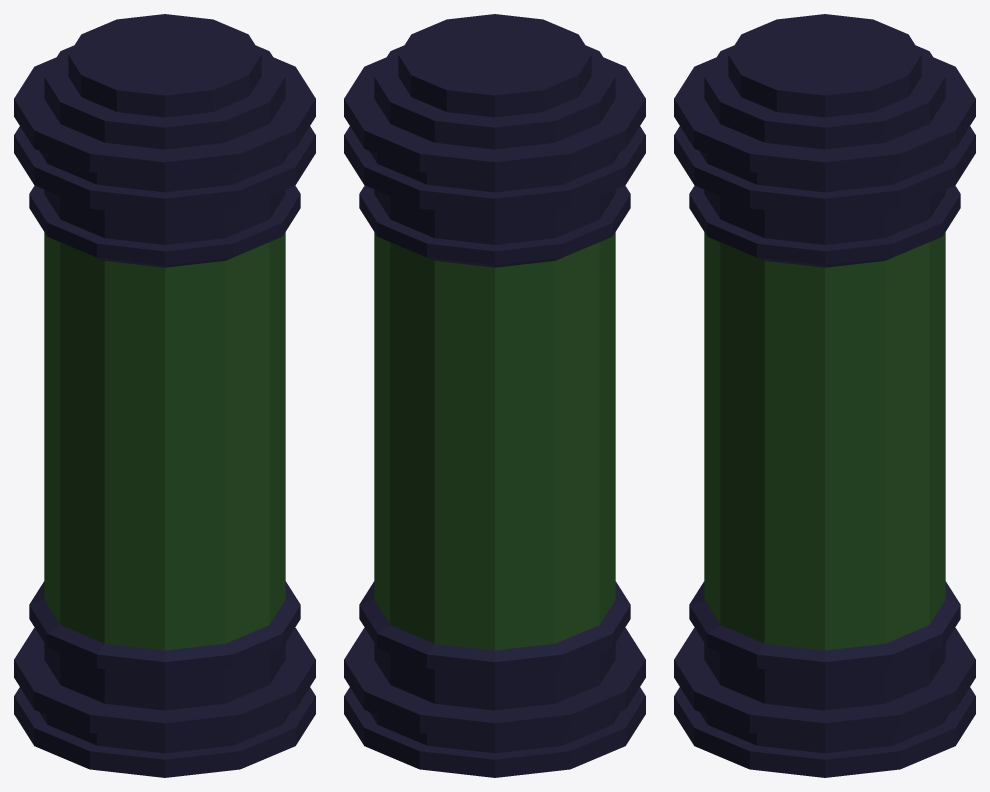
Rendered from testTube.fbx.
The picture shows the model from 3 angles, left to right: view 1: azimuth 30°, elevation 25°; view 2: azimuth 150°, elevation 25°; view 3: azimuth 270°, elevation 25°; orthographic projection.
Parts seen in each view (by area): view 1: testTube; view 2: testTube; view 3: testTube.
Boxes of the visible parts, x1,y1,x2,y2 form: testTube: (14,14,315,777); testTube: (344,14,645,777); testTube: (674,14,975,777).
Size of the model in its own units: 250 by 603 by 250.
